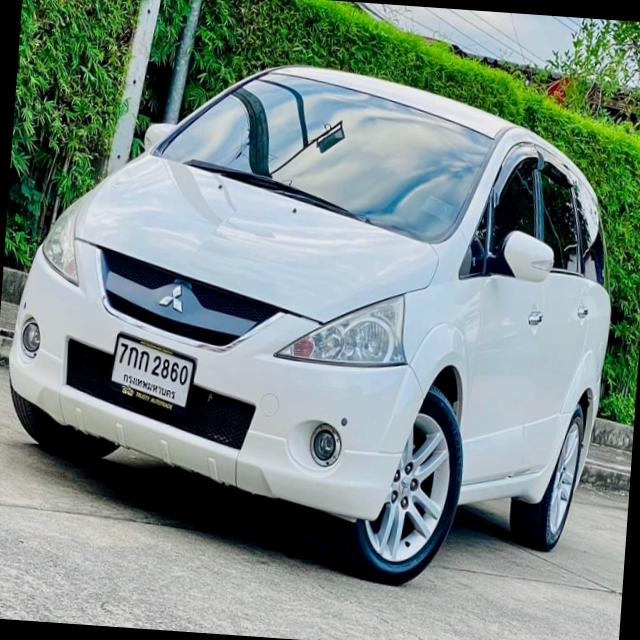license_plate: (106, 332, 194, 409)
